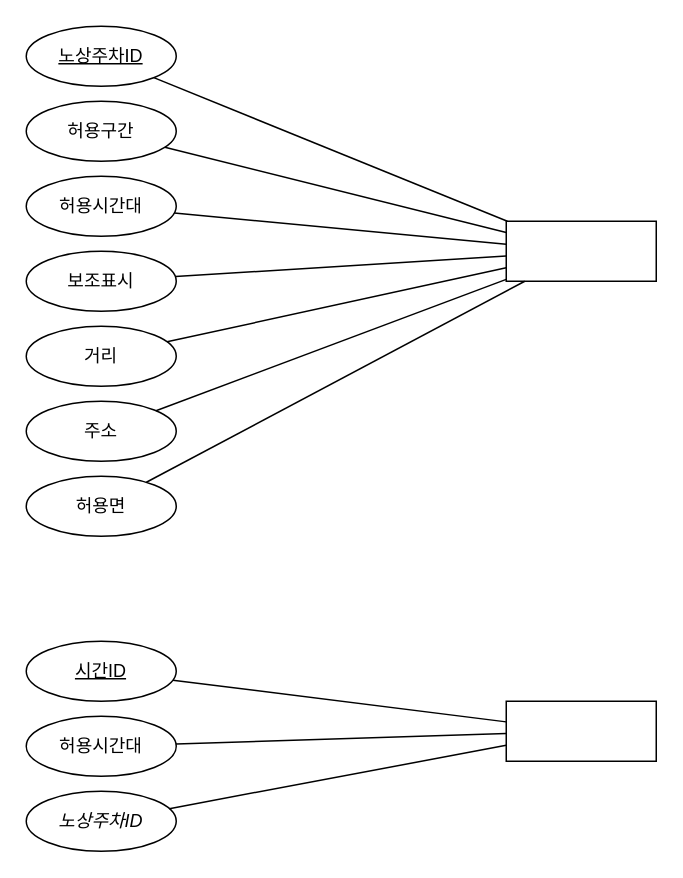
Image size: 683x878. Some labels were removed from this diagram. Here are the shapes that lost their labels. From the top down, the centre of each, then its label:
[580,250]: 노상주차
[580,730]: 시간
